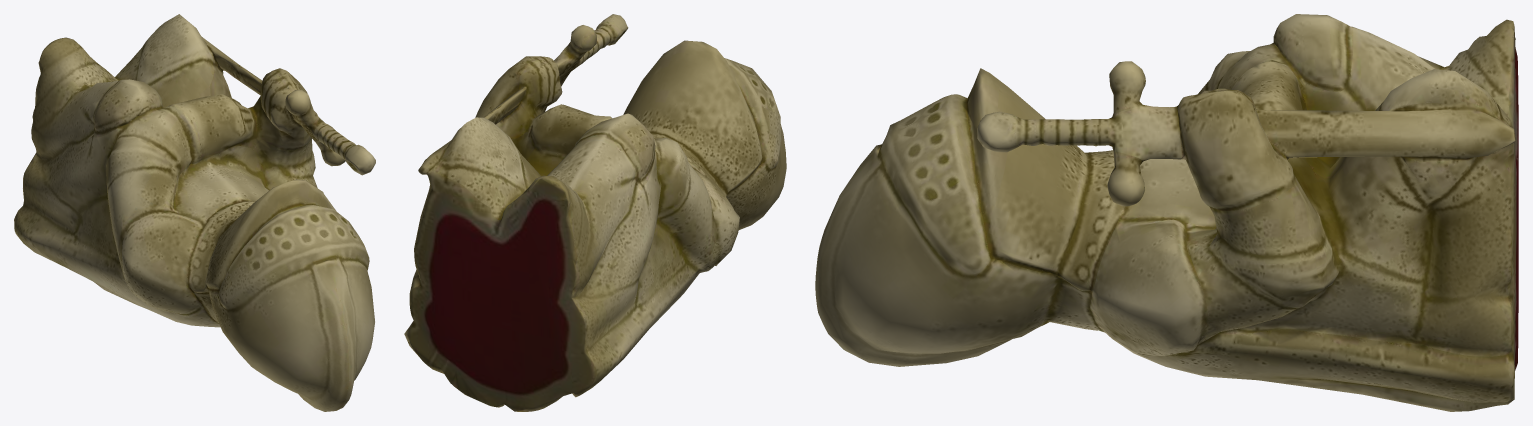
Rendered from model_small.obj.
3 views of the same model, side by side, from view 1: azimuth 30°, elevation 25°; view 2: azimuth 150°, elevation 25°; view 3: azimuth 270°, elevation 25° (orthographic). The views are drawn at different scales.
Visible parts, largest first — view 1: mmGroup0; view 2: mmGroup0; view 3: mmGroup0.
Part boxes in pixels (left/top/right/bottom): mmGroup0: left=14, top=14, right=375, bottom=411; mmGroup0: left=404, top=14, right=786, bottom=411; mmGroup0: left=815, top=14, right=1518, bottom=411.
Size of the model in its own units: 3.74 by 4.06 by 7.11.
1 material, 1 textured.
